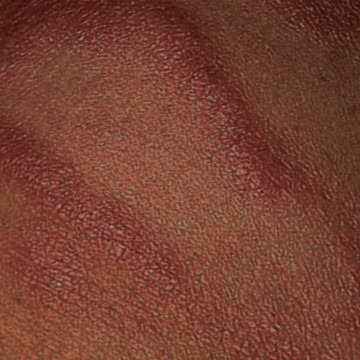Leprosy: (0, 130, 227, 327), (187, 0, 356, 245), (0, 0, 206, 64)
